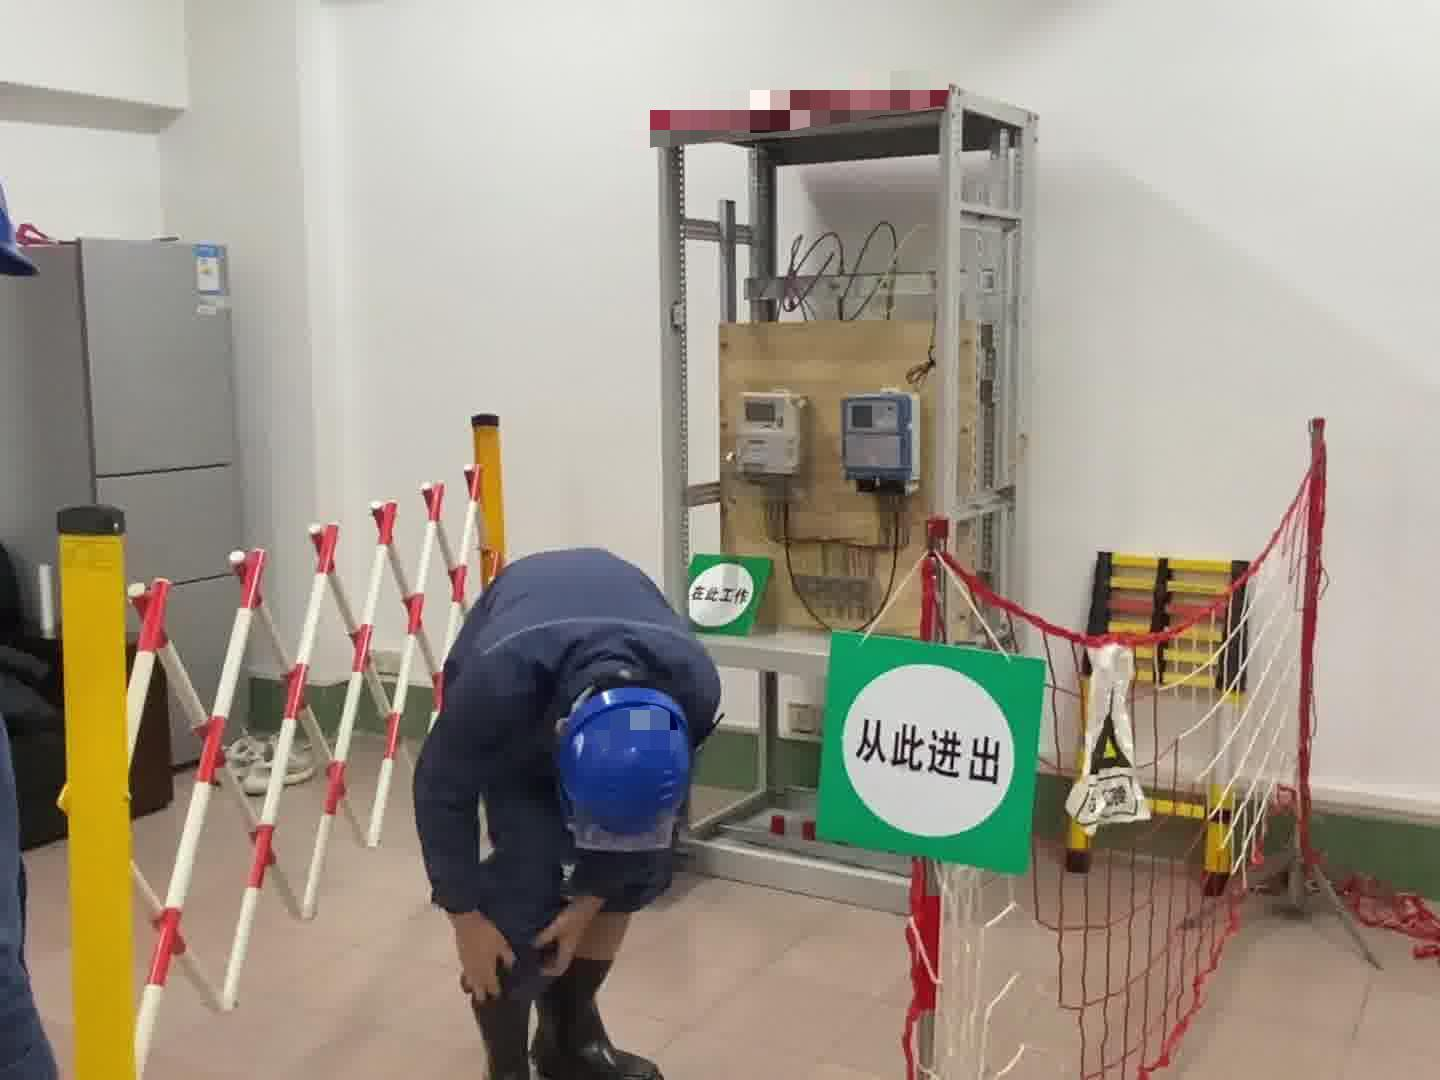halt: (556, 686, 698, 862)
